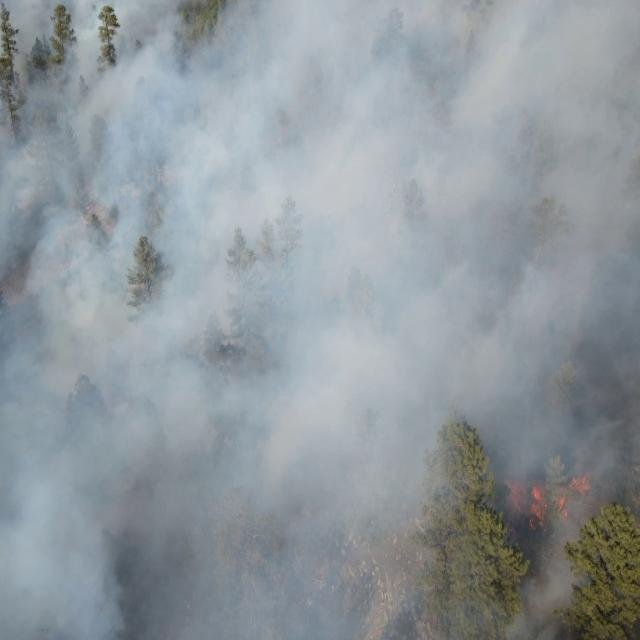fire: (500, 473, 596, 535)
smoke: (0, 0, 466, 640), (468, 0, 640, 532), (507, 536, 592, 640)
